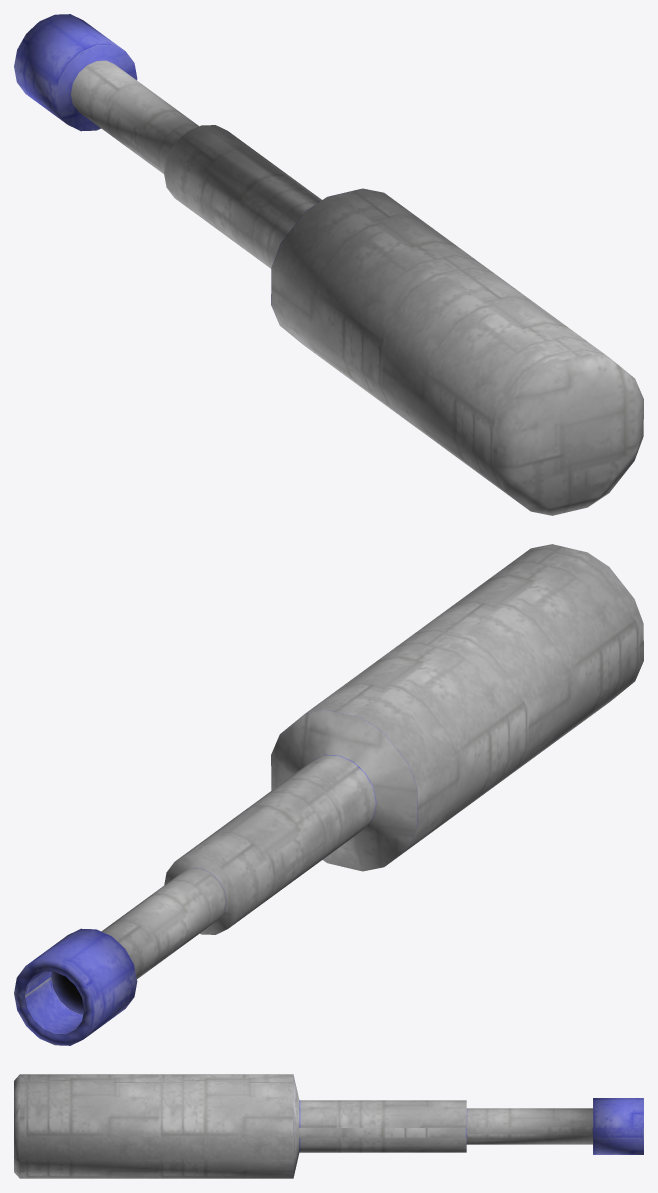
The model's file is w_laser.obj.
The picture shows the model from 3 angles, top to bottom: view 1: azimuth 30°, elevation 25°; view 2: azimuth 150°, elevation 25°; view 3: azimuth 270°, elevation 25°; orthographic projection. The views are drawn at different scales.
Parts seen in each view (by area): view 1: w_laser; view 2: w_laser; view 3: w_laser.
Boxes of the visible parts, x1,y1,x2,y2 form: w_laser: (14,14,643,515); w_laser: (14,544,643,1045); w_laser: (14,1074,643,1178).
Size of the model in its own units: 0.7073 by 0.7073 by 4.35.
1 material, 1 textured.
